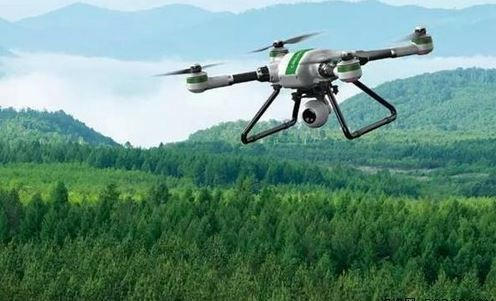maybay_khongnguoilai: (169, 25, 439, 138)
